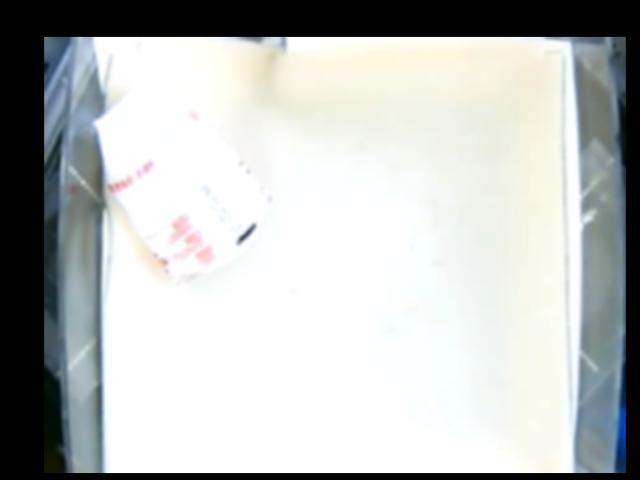Bottle: (91, 78, 269, 284)
